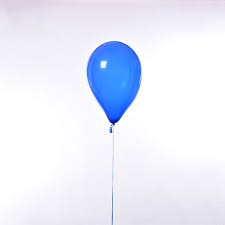Balloon: (87, 41, 141, 124)
